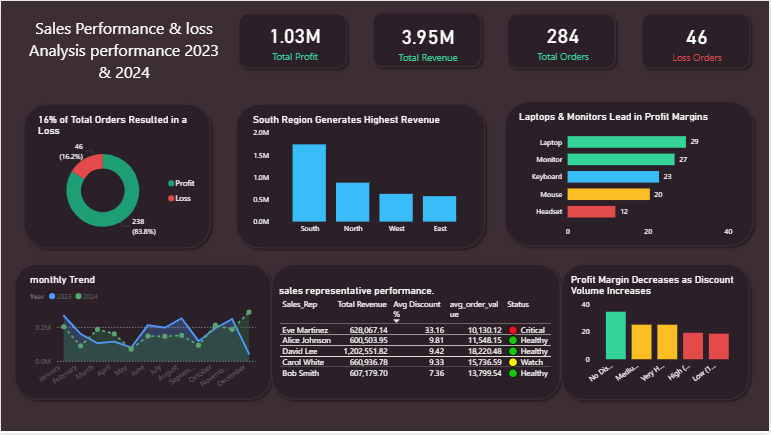

This screenshot's page, from the dashboard's own definition file:
{"tool":"powerbi","page":{"name":"Page 1","canvas":[1280,720],"ordinal":0},"visuals":[{"type":"card","fields":{"Values":["sales data final clean.Total Profit"]},"box":[401.7,20,176.7,91.7],"z":0},{"type":"card","fields":{"Values":["sales data final clean.Total Revenue"]},"box":[622,21,180,91],"z":1000},{"type":"card","fields":{"Values":["sales data final clean.Total Orders"]},"box":[846.7,20,180,91.7],"z":2000},{"type":"card","fields":{"Values":["sales data final clean.Loss Orders"]},"box":[1070,18.3,180,98.3],"z":3000},{"type":"clusteredColumnChart","title":"South Region Generates Highest Revenue","fields":{"Category":["sales data final clean.Region"],"Y":["sales data final clean.Total Revenue"]},"box":[414.4,186.7,380,220],"z":4000},{"type":"clusteredBarChart","title":"Laptops & Monitors Lead in Profit Margins","fields":{"Category":["sales data final clean.Product"],"Y":["sales data final clean.Profit Margin"]},"box":[858.5,181.5,380.8,220.8],"z":5000},{"type":"donutChart","title":"16% of Total Orders Resulted in a Loss","fields":{"Y":["sales data final clean.Total Orders"],"Category":["sales data final clean.order_status"]},"box":[56.7,186.7,280,220],"z":6000},{"type":"tableEx","title":"sales representative  performance. ","fields":{"Values":["sales data final clean.Sales_Rep","sales data final clean.Total Revenue","sales data final clean.Avg Discount %","sales data final clean.avg_order_value","sales data final clean.Status"]},"box":[458.6,471.4,465.7,168.6],"z":7000},{"type":"clusteredColumnChart","title":"Profit Margin Decreases as Discount Volume Increases","fields":{"Category":["sales data final clean.Discount Bucket"],"Y":["sales data final clean.Profit Margin"]},"box":[945,452.5,291.2,213.8],"z":8000},{"type":"lineChart","title":"monthly Trend","fields":{"Category":["sales data final clean.Order_Date.Variation.Date Hierarchy.Month"],"Y":["sales data final clean.Total Revenue"],"Series":["sales data final clean.Order_Date.Variation.Date Hierarchy.Year"]},"box":[42.5,453.8,386.2,202.5],"z":9000},{"type":"textbox","box":[31.7,21.7,346.7,128.3],"z":10000}]}

Visuals, with their boxes in screenshot pixels (x1, y1, x2, y2), scaled from the page's 1280x720 canvas onto the 771x435 screenshot:
card - sales data final clean.Total Profit: {"left": 242, "top": 12, "right": 348, "bottom": 67}
card - sales data final clean.Total Revenue: {"left": 375, "top": 13, "right": 483, "bottom": 68}
card - sales data final clean.Total Orders: {"left": 510, "top": 12, "right": 618, "bottom": 67}
card - sales data final clean.Loss Orders: {"left": 645, "top": 11, "right": 753, "bottom": 70}
"South Region Generates Highest Revenue" clusteredColumnChart: {"left": 250, "top": 113, "right": 479, "bottom": 246}
"Laptops & Monitors Lead in Profit Margins" clusteredBarChart: {"left": 517, "top": 110, "right": 746, "bottom": 243}
"16% of Total Orders Resulted in a Loss" donutChart: {"left": 34, "top": 113, "right": 203, "bottom": 246}
"sales representative  performance. " tableEx: {"left": 276, "top": 285, "right": 557, "bottom": 387}
"Profit Margin Decreases as Discount Volume Increases" clusteredColumnChart: {"left": 569, "top": 273, "right": 745, "bottom": 403}
"monthly Trend" lineChart: {"left": 26, "top": 274, "right": 258, "bottom": 397}
textbox: {"left": 19, "top": 13, "right": 228, "bottom": 91}
